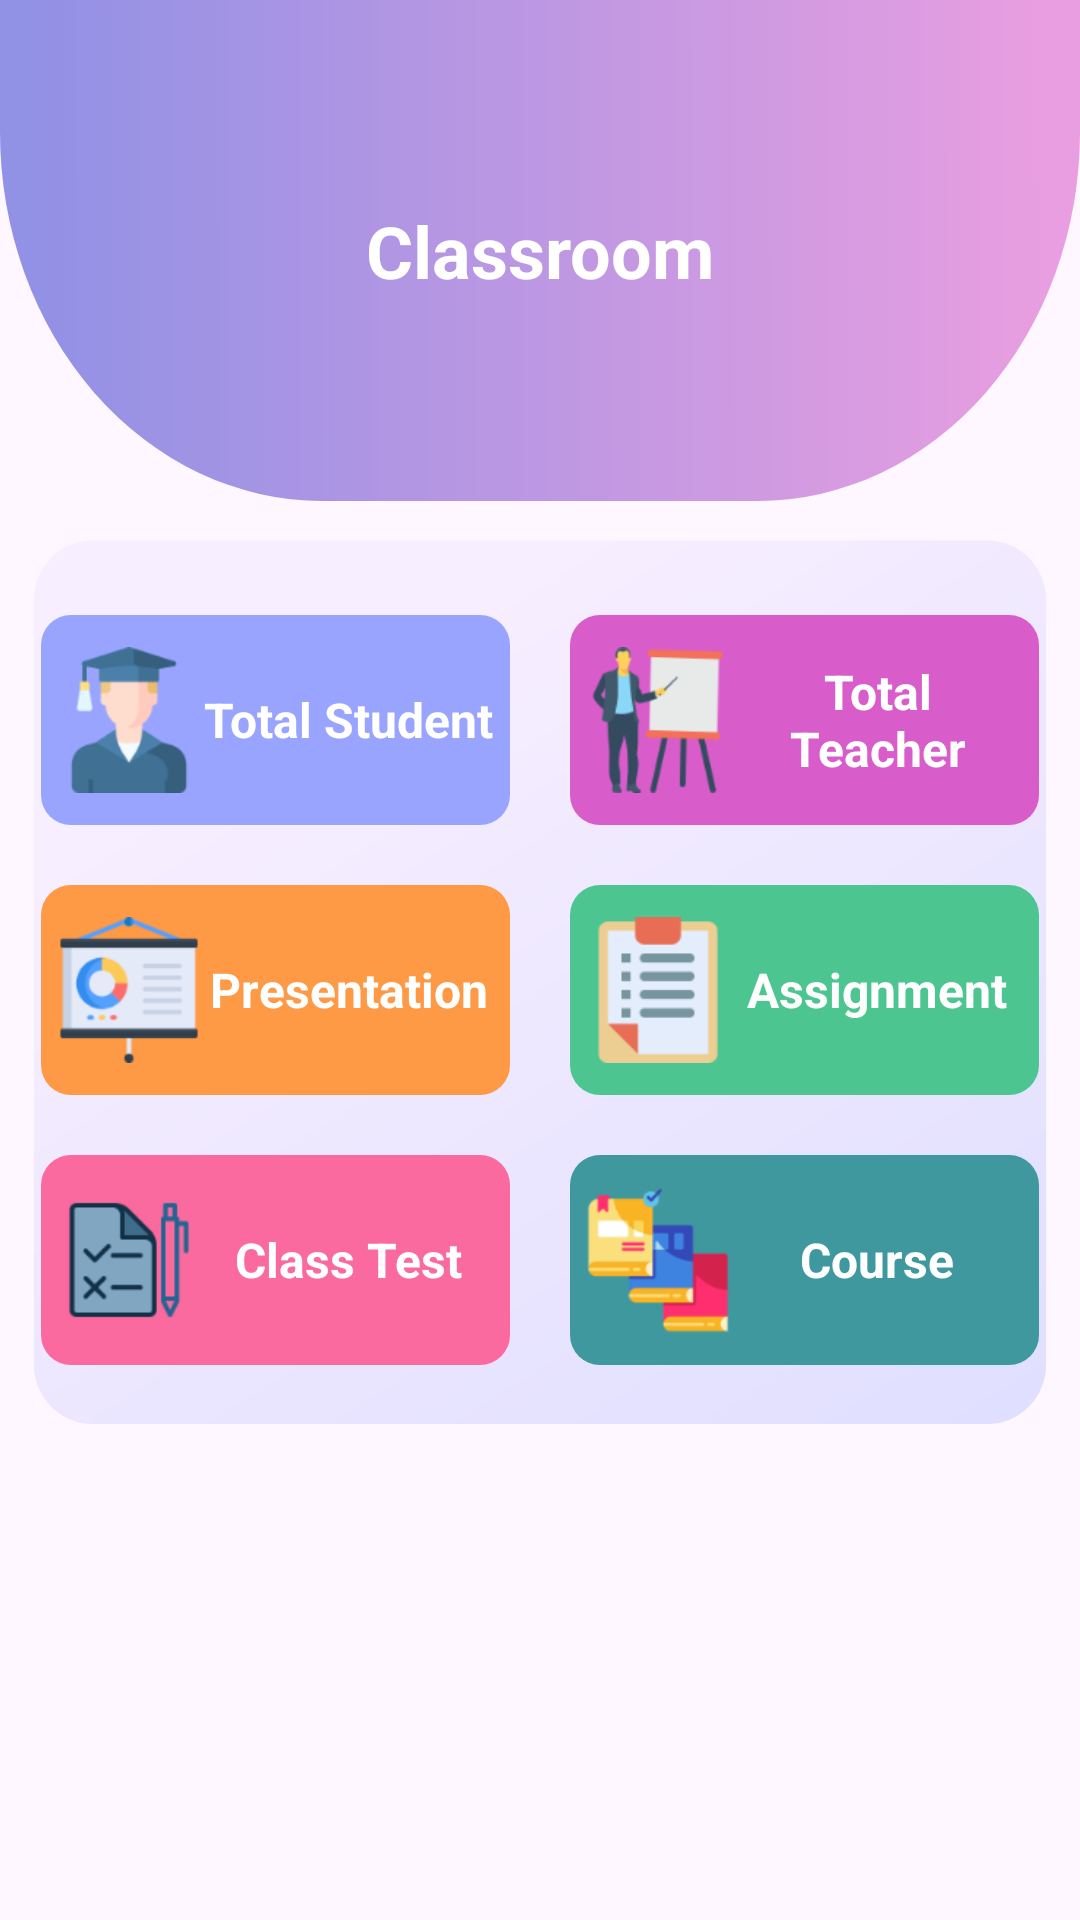

Named icons in this screenshot (1080px×1920px) and their bounding boxes, (x1, y1, x2, y2):
exam: (69, 1202, 189, 1318)
graduated: (71, 647, 187, 793)
list: (598, 917, 718, 1063)
